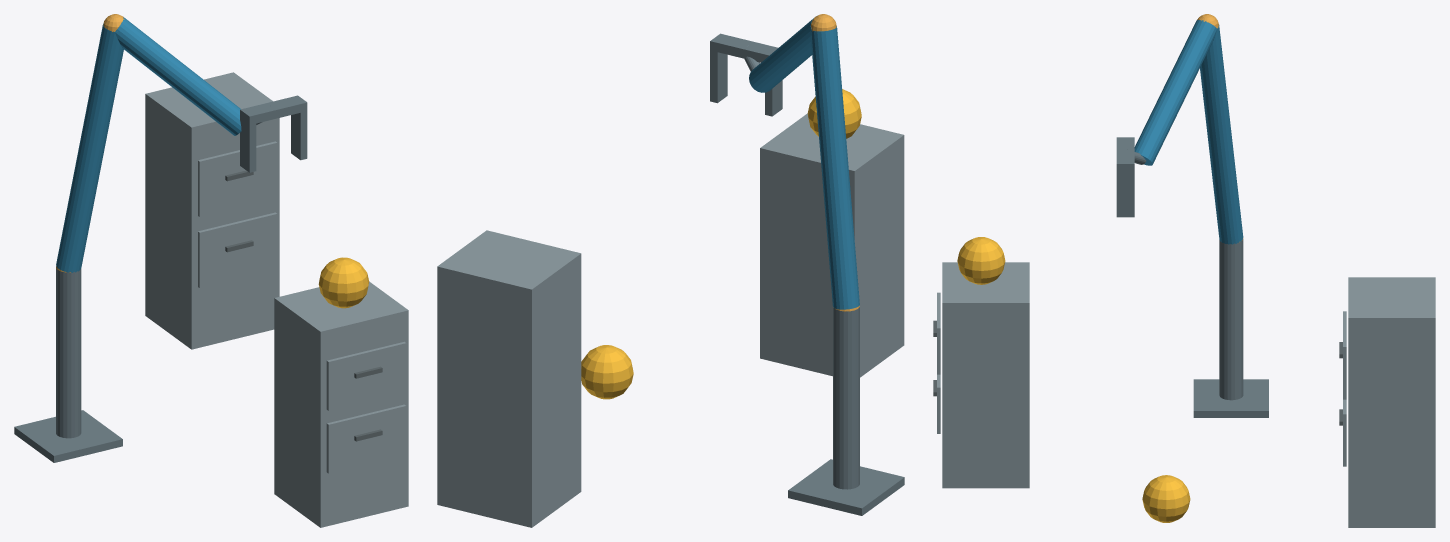
The picture shows the model from 3 angles, left to right: view 1: azimuth 30°, elevation 25°; view 2: azimuth 150°, elevation 25°; view 3: azimuth 270°, elevation 25°; orthographic projection. The views are drawn at different scales.
Parts seen in each view (by area): view 1: cabinet_2 body, cabinet_1 body, moving link 1, cabinet_2 drawer front, fixed post, cabinet_2 drawer front.001, cabinet_1 drawer front.001, cabinet_1 drawer front, moving link 2, pedestal, released ball_1, gripper bridge (+2 smaller); view 2: cabinet_2 body, cabinet_1 body, moving link 1, fixed post, pedestal, ball ball_2, moving link 2, gripper bridge, released ball_1, gripper finger 1; view 3: cabinet_2 body, cabinet_1 body, moving link 1, fixed post, moving link 2, pedestal, ball ball_2, released ball_1, gripper finger 1, gripper bridge.
Boxes of the visible parts, x1=… form: cabinet_2 body: x1=145, y1=72, x2=279, y2=349; cabinet_1 body: x1=274, y1=281, x2=408, y2=527; moving link 1: x1=56, y1=23, x2=123, y2=272; cabinet_2 drawer front: x1=198, y1=212, x2=277, y2=287; fixed post: x1=56, y1=268, x2=81, y2=438; cabinet_2 drawer front.001: x1=198, y1=141, x2=277, y2=216; cabinet_1 drawer front.001: x1=326, y1=341, x2=406, y2=410; cabinet_1 drawer front: x1=326, y1=404, x2=406, y2=473; moving link 2: x1=115, y1=17, x2=241, y2=135; pedestal: x1=14, y1=410, x2=122, y2=462; released ball_1: x1=318, y1=257, x2=369, y2=308; gripper bridge: x1=240, y1=95, x2=307, y2=124; cabinet_2 body: x1=437, y1=230, x2=581, y2=527; cabinet_1 body: x1=760, y1=113, x2=904, y2=377; moving link 1: x1=810, y1=26, x2=859, y2=309; fixed post: x1=833, y1=307, x2=859, y2=489; pedestal: x1=788, y1=459, x2=904, y2=515; ball ball_2: x1=581, y1=345, x2=633, y2=399; moving link 2: x1=749, y1=18, x2=813, y2=92; gripper bridge: x1=710, y1=33, x2=778, y2=62; released ball_1: x1=807, y1=89, x2=861, y2=138; gripper finger 1: x1=710, y1=50, x2=727, y2=103; cabinet_2 body: x1=1348, y1=277, x2=1435, y2=527; cabinet_1 body: x1=942, y1=262, x2=1029, y2=488; moving link 1: x1=1200, y1=25, x2=1243, y2=244; fixed post: x1=1219, y1=239, x2=1243, y2=400; moving link 2: x1=1134, y1=20, x2=1216, y2=165; pedestal: x1=1193, y1=379, x2=1268, y2=417; ball ball_2: x1=1142, y1=475, x2=1190, y2=522; released ball_1: x1=957, y1=237, x2=1005, y2=284; gripper finger 1: x1=1116, y1=172, x2=1134, y2=217; gripper bridge: x1=1116, y1=137, x2=1134, y2=172.
Bounding box in the file's own units: 1.14 × 1.48 × 1.67.
